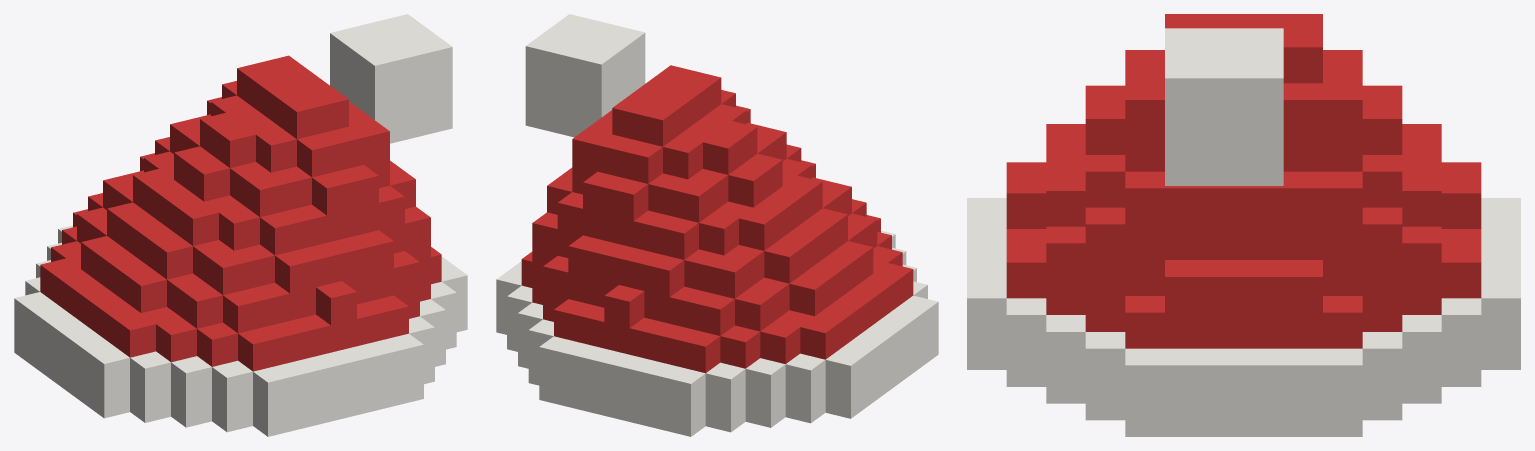
File: santa.glb
3 views of the same model, side by side, from view 1: azimuth 30°, elevation 25°; view 2: azimuth 150°, elevation 25°; view 3: azimuth 270°, elevation 25° (orthographic). The views are drawn at different scales.
Visible parts, largest first — view 1: santa; view 2: santa; view 3: santa.
Part boxes in pixels (<box>): santa: <box>14,14,467,436</box>; santa: <box>496,14,938,436</box>; santa: <box>967,14,1520,436</box>.
Size of the model in its own units: 0.7 by 0.5 by 0.7.
1 material, 1 textured.
